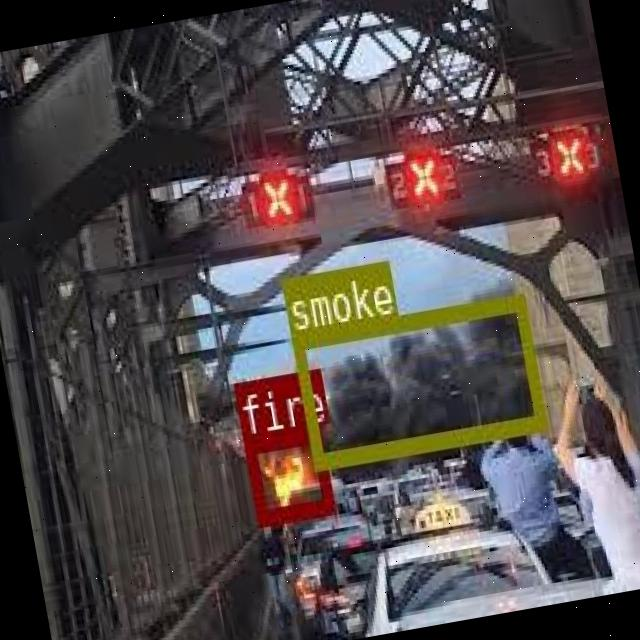fire: (241, 424, 333, 522)
smoke: (289, 292, 545, 468)
